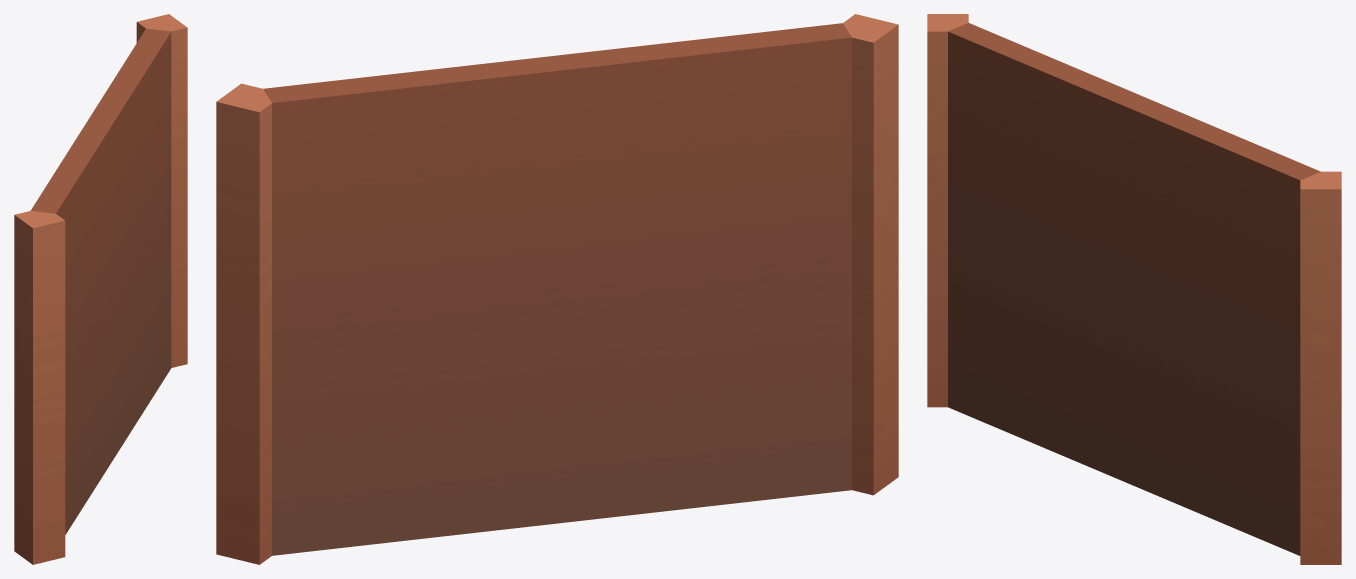
File: wallWoodDiagonal.fbx
The picture shows the model from 3 angles, left to right: view 1: azimuth 30°, elevation 25°; view 2: azimuth 150°, elevation 25°; view 3: azimuth 270°, elevation 25°; orthographic projection. The views are drawn at different scales.
Visible parts, largest first — view 1: wallWoodDiagonal; view 2: wallWoodDiagonal; view 3: wallWoodDiagonal.
Boxes of the visible parts, x1,y1,x2,y2 form: wallWoodDiagonal: (14, 14, 187, 564); wallWoodDiagonal: (216, 14, 898, 564); wallWoodDiagonal: (927, 14, 1341, 564).
Bounding box in the file's own units: 1 × 1 × 1.
